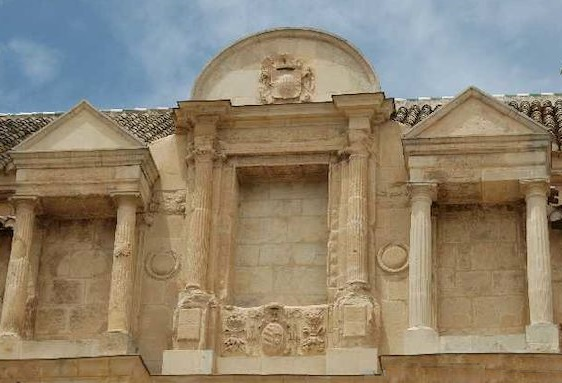fronton: (394, 79, 557, 152), (4, 93, 150, 167)
vano-adintelado: (203, 141, 352, 311)
